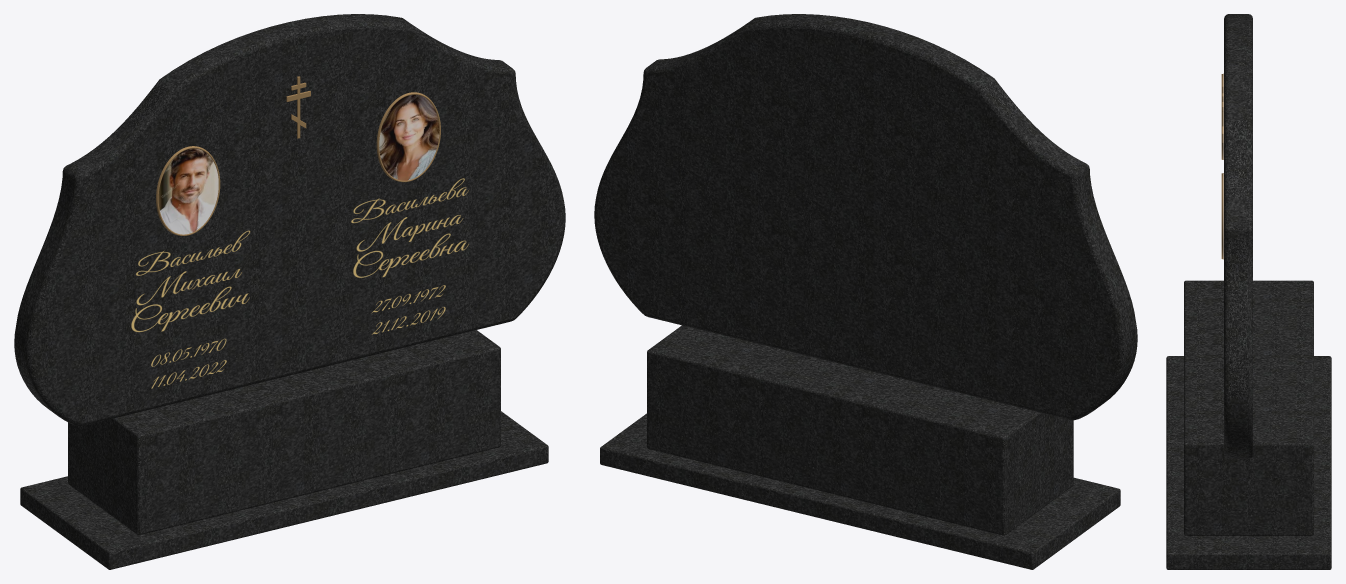
3 renders of one model, left to right at view 1: azimuth 30°, elevation 25°; view 2: azimuth 150°, elevation 25°; view 3: azimuth 270°, elevation 25°, orthographic. The views are drawn at different scales.
Parts seen in each view (by area): view 1: SM_B20; view 2: SM_B20; view 3: SM_B20.
Part boxes in pixels (x1,y1,x2,y2): SM_B20: [14, 14, 565, 569]; SM_B20: [594, 14, 1137, 569]; SM_B20: [1166, 14, 1331, 569].
Bounding box in the file's own units: 0.9924 × 0.8106 × 0.285.
Materials: 9 (8 with a texture image).
